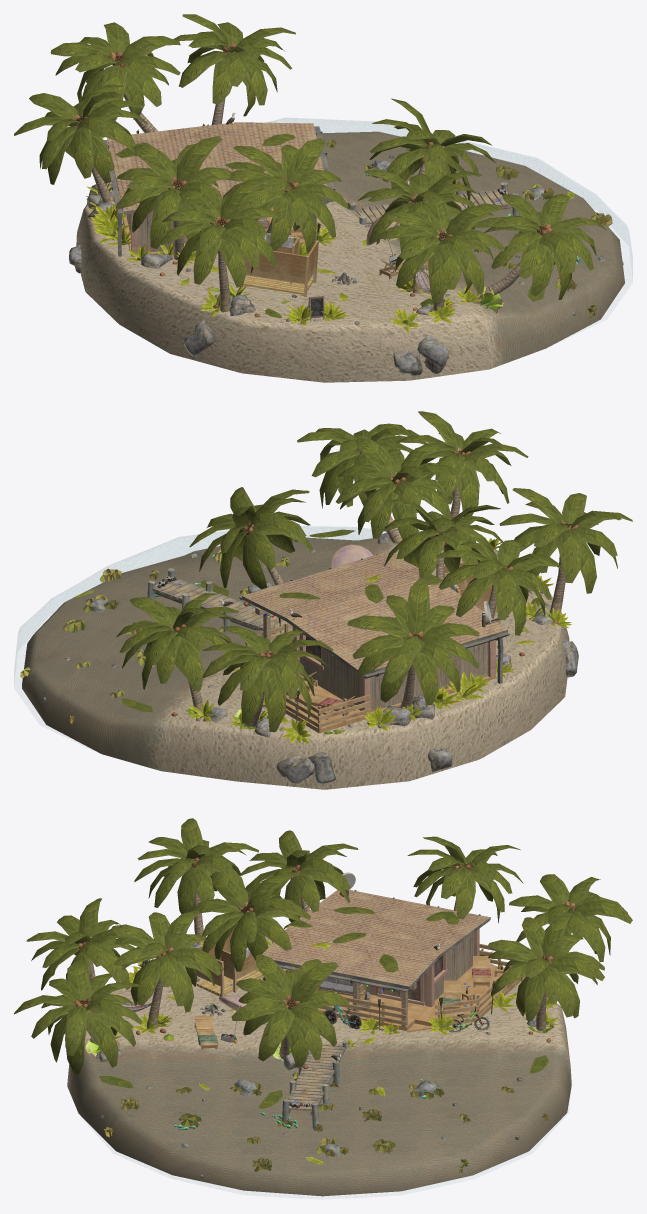
File: island-optimized.glb
3 views of the same model, one above another, from view 1: azimuth 30°, elevation 25°; view 2: azimuth 150°, elevation 25°; view 3: azimuth 270°, elevation 25° (orthographic). The views are drawn at different scales.
Visible parts, largest first — view 1: polySurface174, Groundplane, House, Rocks, Changing_Cabin, Water, Pier; view 2: polySurface174, Groundplane, House, Rocks, Water, Pier, BeachUmbrella; view 3: Groundplane, polySurface174, House, Pier, Changing_Cabin, Rocks.
Boxes of the visible parts, x1,y1,x2,y2 form: polySurface174: (14,14,606,312); Groundplane: (76,131,624,382); House: (104,122,335,256); Rocks: (69,155,623,375); Changing_Cabin: (241,233,318,296); Water: (268,118,632,356); Pier: (348,182,519,224); polySurface174: (116,411,632,732); Groundplane: (22,530,569,789); House: (239,552,509,733); Rocks: (26,532,578,783); Water: (14,526,385,747); Pier: (147,568,288,632); BeachUmbrella: (331,544,373,568); Groundplane: (67,936,571,1196); polySurface174: (14,818,632,1074); House: (262,872,525,1032); Pier: (282,1040,348,1129); Changing_Cabin: (193,931,263,996); Rocks: (65,943,554,1183).
Size of the model in its own units: 24.5 by 8.5 by 28.09.
44 materials, 40 textured.
